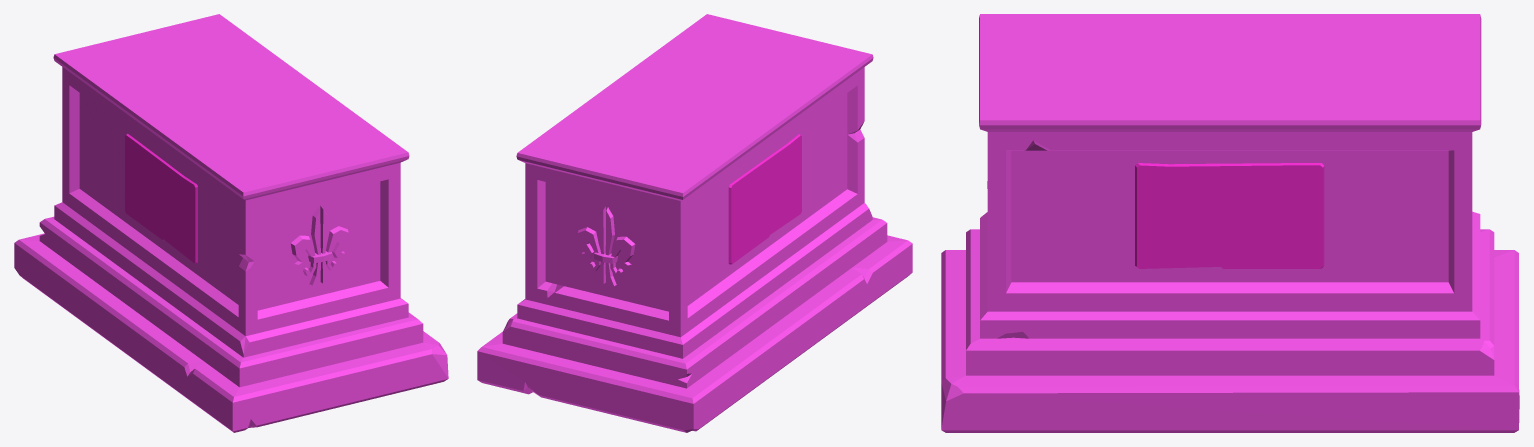
File: SM_Pedestal_Long_C_Fantasy.fbx
3 renders of one model, left to right at view 1: azimuth 30°, elevation 25°; view 2: azimuth 150°, elevation 25°; view 3: azimuth 270°, elevation 25°, orthographic. The views are drawn at different scales.
Visible parts, largest first — view 1: SM_Pedestal_Long_C_Fantasy; view 2: SM_Pedestal_Long_C_Fantasy; view 3: SM_Pedestal_Long_C_Fantasy.
Boxes of the visible parts, bbox=[...] form: SM_Pedestal_Long_C_Fantasy: bbox=[14, 14, 448, 432]; SM_Pedestal_Long_C_Fantasy: bbox=[477, 14, 912, 432]; SM_Pedestal_Long_C_Fantasy: bbox=[941, 14, 1519, 432].
Size of the model in its own units: 2.05 by 2.04 by 3.59.
